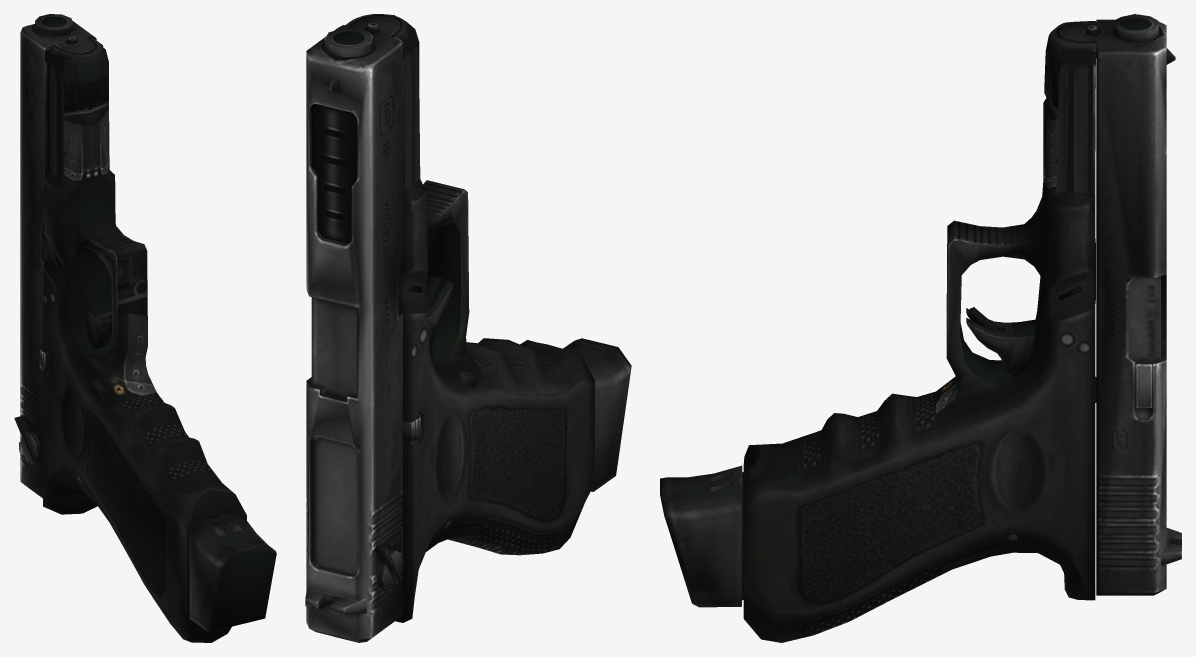
Rendered from Ground_glock.fbx.
3 renders of one model, left to right at view 1: azimuth 30°, elevation 25°; view 2: azimuth 150°, elevation 25°; view 3: azimuth 270°, elevation 25°, orthographic. The views are drawn at different scales.
Visible parts, largest first — view 1: PV-GLOCK-18.001; view 2: PV-GLOCK-18.001; view 3: PV-GLOCK-18.001.
Boxes of the visible parts, x1,y1,x2,y2 form: PV-GLOCK-18.001: (14, 14, 276, 642); PV-GLOCK-18.001: (305, 14, 631, 642); PV-GLOCK-18.001: (660, 14, 1181, 642).
Size of the model in its own units: 117 by 890 by 684.
